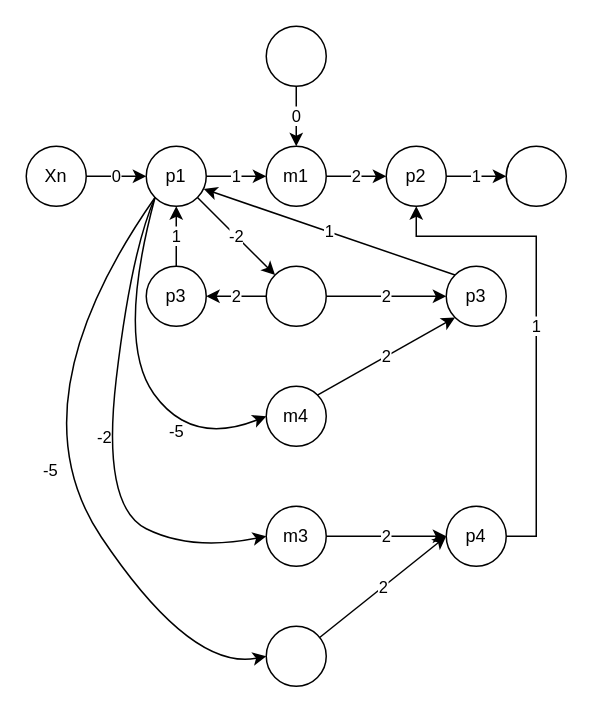
The diagram is 593 pixels wide and 713 high, and some of its shapes have lost their labels. The centre of each missing label's shape, as x and y in pixels:
"b0" belongs at point (295, 55).
"m2" belongs at point (295, 295).
"m5" belongs at point (295, 655).
"Yn" belongs at point (535, 175).
